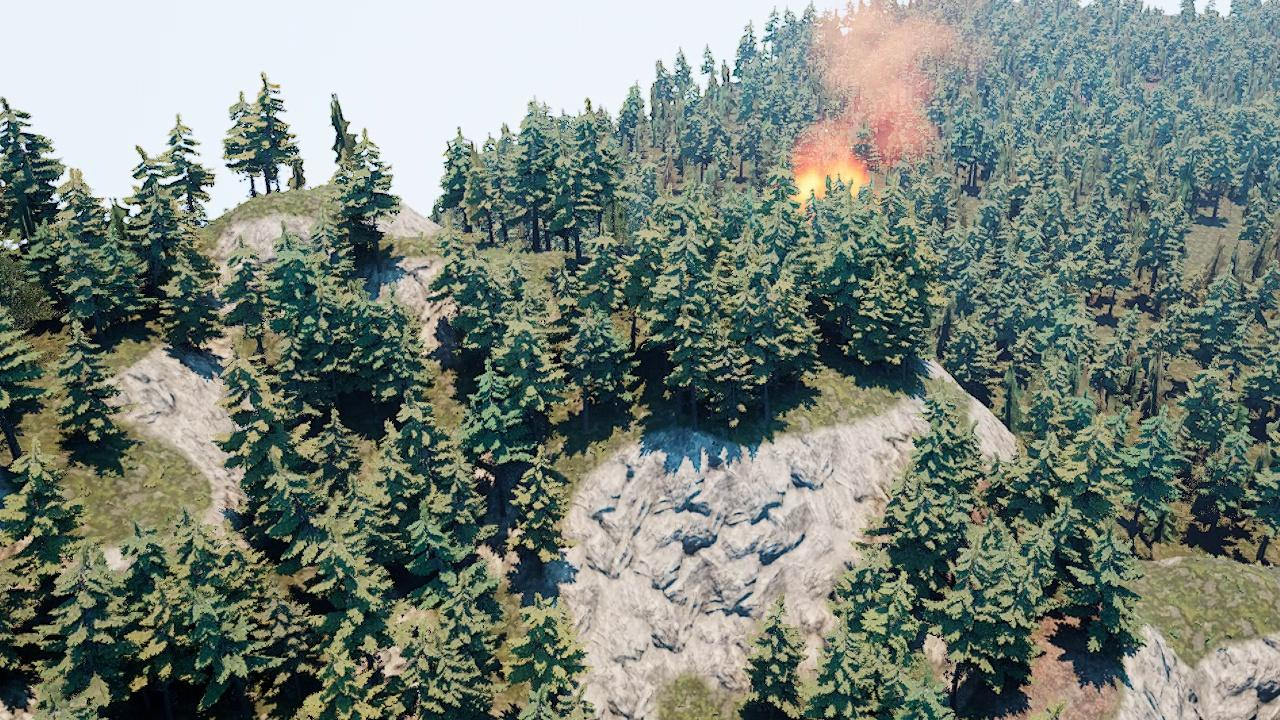fire: (794, 153, 871, 202)
smoke: (795, 0, 975, 166)
